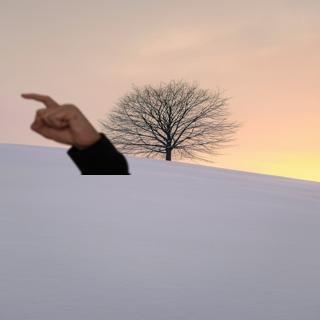WHY: (17, 86, 97, 148)
